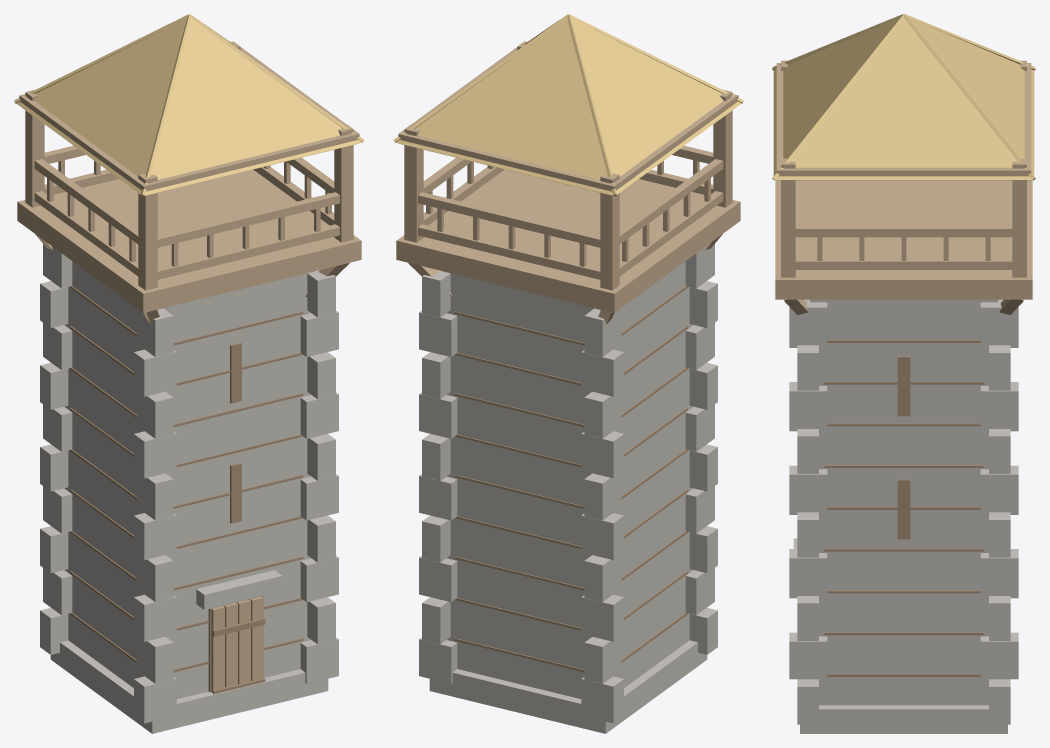
Rendered from watchtower.glb.
The picture shows the model from 3 angles, left to right: view 1: azimuth 30°, elevation 25°; view 2: azimuth 150°, elevation 25°; view 3: azimuth 270°, elevation 25°; orthographic projection. The views are drawn at different scales.
Visible parts, largest first — view 1: watchtower_stone, watchtower_wood, watchtower_roof, watchtower_dark; view 2: watchtower_stone, watchtower_wood, watchtower_roof, watchtower_dark; view 3: watchtower_stone, watchtower_wood, watchtower_roof, watchtower_dark.
Part boxes in pixels (x1,y1,x2,y2): watchtower_stone: [40, 244, 338, 733]; watchtower_wood: [17, 41, 361, 692]; watchtower_roof: [14, 14, 364, 196]; watchtower_dark: [70, 286, 303, 694]; watchtower_stone: [419, 244, 717, 733]; watchtower_wood: [396, 41, 740, 324]; watchtower_roof: [393, 14, 743, 196]; watchtower_dark: [454, 286, 687, 672]; watchtower_stone: [789, 299, 1018, 733]; watchtower_wood: [775, 60, 1032, 314]; watchtower_roof: [772, 14, 1035, 180]; watchtower_dark: [824, 340, 983, 676].
Bounding box in the file's own units: 0.9735 × 2.75 × 0.9735.
